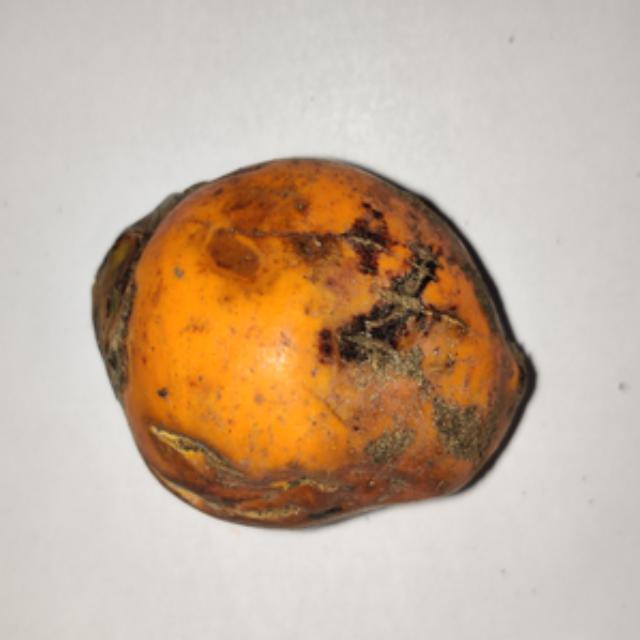damaged: (94, 158, 535, 531)
